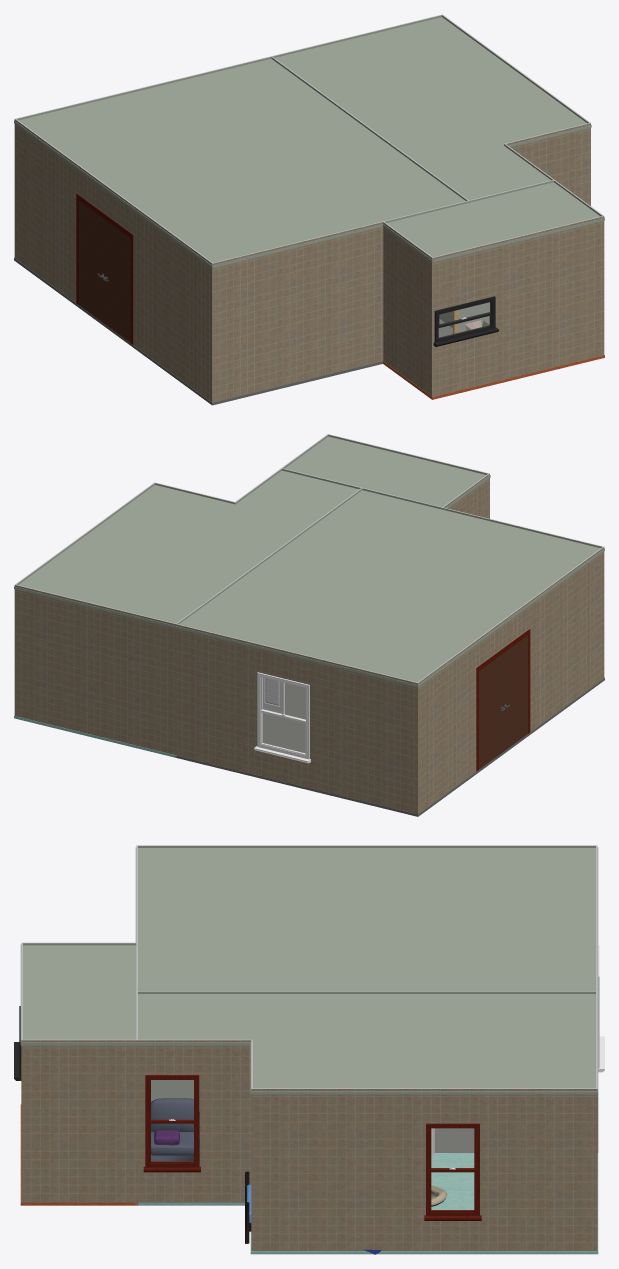
File: ProcTHOR-Train-40.glb
The picture shows the model from 3 angles, top to bottom: view 1: azimuth 30°, elevation 25°; view 2: azimuth 150°, elevation 25°; view 3: azimuth 270°, elevation 25°; orthographic projection. The views are drawn at different scales.
Visible parts, largest first — view 1: Ceiling#room|6|c, Ceiling#room|2|c, WallInside#wall|exterior|5.20|6.93|8.66|6.93, WallInside#wall|exterior|1.73|8.66|5.20|8.66, WallInside#wall|exterior|8.66|0.00|8.66|6.93, Ceiling#room|7|c, WallInside#wall|exterior|5.20|6.93|5.20|8.66, WallInside#wall|exterior|0.00|5.20|1.73|5.20, Doorway_Door_1b, Doorway_Door_1a, Floor#room|6|f, Window_Hung_48x24 (+5 smaller); view 2: Ceiling#room|6|c, WallInside#wall|exterior|3.46|0.00|8.66|0.00, Ceiling#room|2|c, WallInside#wall|exterior|0.00|0.00|3.46|0.00, WallInside#wall|exterior|8.66|0.00|8.66|6.93, Ceiling#room|7|c, Floor#room|6|f, Doorway_Door_1b, Doorway_Door_1a, Window_Hung_44x60, WallInside#wall|exterior|5.20|6.93|5.20|8.66, Doorway_Double_1 (+3 smaller); view 3: Ceiling#room|6|c, WallInside#wall|exterior|0.00|0.00|0.00|5.20, Ceiling#room|2|c, WallInside#wall|exterior|1.73|6.93|1.73|8.66, WallInside#wall|exterior|1.73|5.20|1.73|6.93, Ceiling#room|7|c, Window_Hung_32x60 (×2), Floor#room|2|f, Armchair_219_2, WallInside#wall|2|3.46|0.00|3.46|6.93, WallInside#wall|6|8.66|0.00|8.66|6.93, Floor#room|6|f (+1 smaller).
Boxes of the visible parts, <box> form: Ceiling#room|6|c: <box>14,59,465,268</box>; Ceiling#room|2|c: <box>271,17,591,201</box>; WallInside#wall|exterior|5.20|6.93|8.66|6.93: <box>212,222,383,402</box>; WallInside#wall|exterior|1.73|8.66|5.20|8.66: <box>432,216,604,396</box>; WallInside#wall|exterior|8.66|0.00|8.66|6.93: <box>14,119,212,402</box>; Ceiling#room|7|c: <box>383,182,604,262</box>; WallInside#wall|exterior|5.20|6.93|5.20|8.66: <box>383,221,432,396</box>; WallInside#wall|exterior|0.00|5.20|1.73|5.20: <box>505,123,590,205</box>; Doorway_Door_1b: <box>78,201,104,323</box>; Doorway_Door_1a: <box>105,220,130,342</box>; Floor#room|6|f: <box>14,257,452,405</box>; Window_Hung_48x24: <box>433,296,498,346</box>; Ceiling#room|6|c: <box>175,490,604,687</box>; WallInside#wall|exterior|3.46|0.00|8.66|0.00: <box>176,624,417,814</box>; Ceiling#room|2|c: <box>14,470,361,628</box>; WallInside#wall|exterior|0.00|0.00|3.46|0.00: <box>14,584,176,754</box>; WallInside#wall|exterior|8.66|0.00|8.66|6.93: <box>418,547,604,813</box>; Ceiling#room|7|c: <box>285,436,490,508</box>; Floor#room|6|f: <box>175,677,604,816</box>; Doorway_Door_1b: <box>479,654,503,769</box>; Doorway_Door_1a: <box>503,635,527,751</box>; Window_Hung_44x60: <box>254,672,310,763</box>; WallInside#wall|exterior|5.20|6.93|5.20|8.66: <box>443,473,489,518</box>; Doorway_Double_1: <box>476,629,530,771</box>; Ceiling#room|6|c: <box>135,847,598,993</box>; WallInside#wall|exterior|0.00|0.00|0.00|5.20: <box>251,1088,597,1250</box>; Ceiling#room|2|c: <box>135,993,598,1094</box>; WallInside#wall|exterior|1.73|6.93|1.73|8.66: <box>21,1040,137,1202</box>; WallInside#wall|exterior|1.73|5.20|1.73|6.93: <box>136,1040,251,1202</box>; Ceiling#room|7|c: <box>20,944,137,1045</box>; Window_Hung_32x60 (×2): <box>143,1075,481,1220</box>; Floor#room|2|f: <box>135,1153,598,1254</box>; Armchair_219_2: <box>151,1098,199,1162</box>; WallInside#wall|2|3.46|0.00|3.46|6.93: <box>138,991,595,1111</box>; WallInside#wall|6|8.66|0.00|8.66|6.93: <box>138,845,597,847</box>; Floor#room|6|f: <box>435,1094,598,1153</box>.
Size of what is drawn, in the model's own units: 8.94 by 2.75 by 8.91.
Materials: 210 (91 with a texture image).
